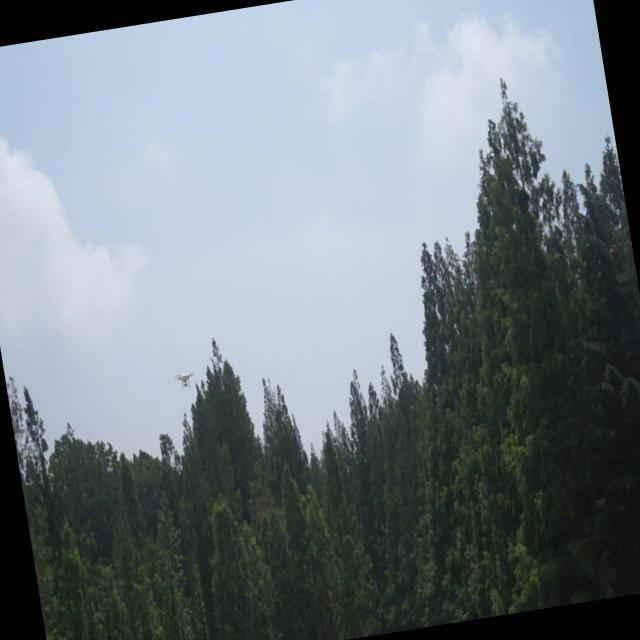drone: (170, 364, 198, 392)
